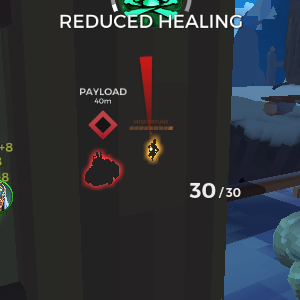model: (142, 136, 164, 166)
